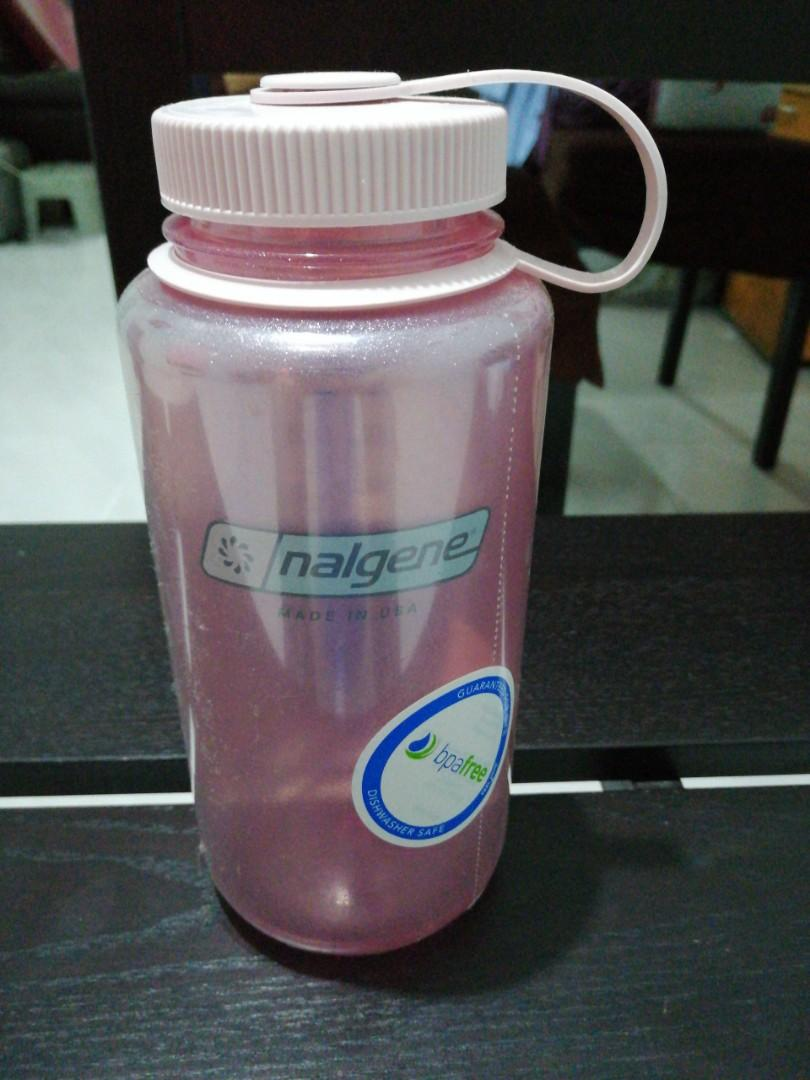bottle: (113, 58, 669, 953)
